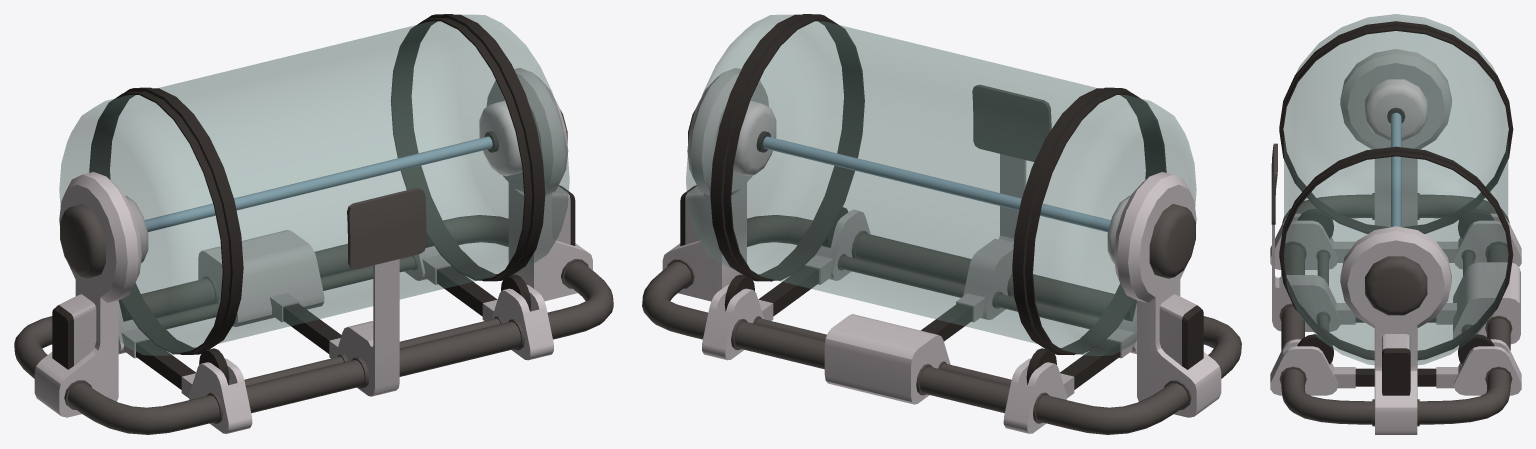
The model's file is Plant_Incubator_2.fbx.
3 views of the same model, side by side, from view 1: azimuth 30°, elevation 25°; view 2: azimuth 150°, elevation 25°; view 3: azimuth 270°, elevation 25° (orthographic). The views are drawn at different scales.
Parts seen in each view (by area): view 1: pCube35; view 2: pCube35; view 3: pCube35.
Part boxes in pixels (<box>): pCube35: <box>14,14,613,434</box>; pCube35: <box>642,14,1241,434</box>; pCube35: <box>1270,14,1521,434</box>.
Size of the model in its own units: 350 by 178 by 168.
